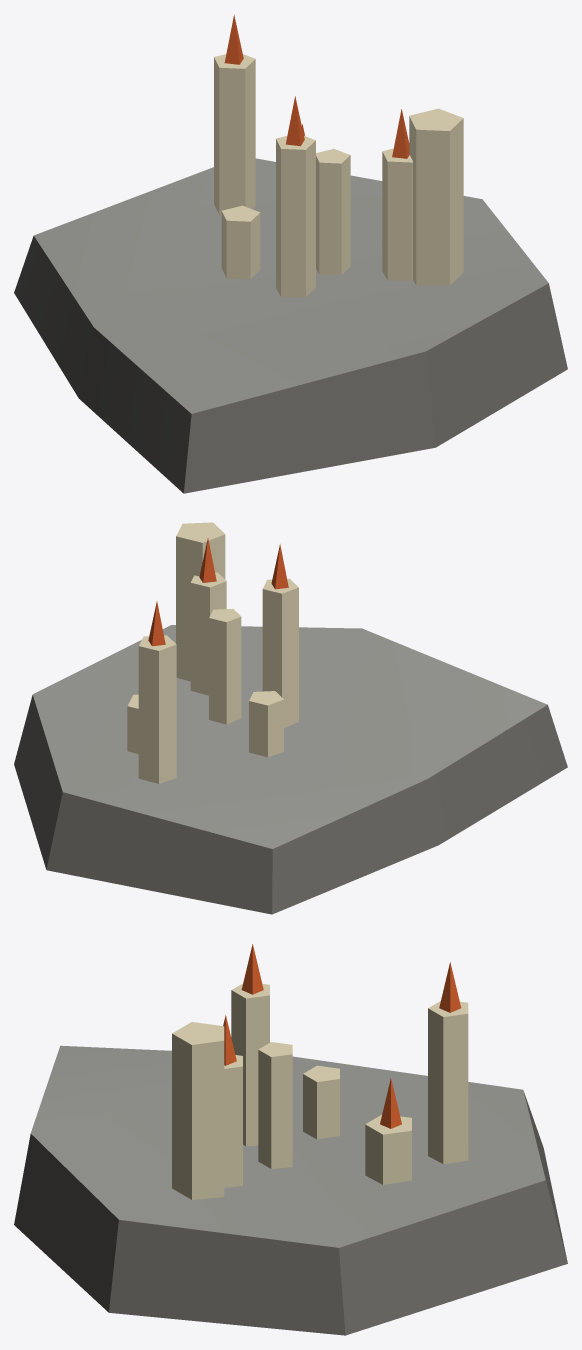
The model's file is Candles.fbx.
3 views of the same model, one above another, from view 1: azimuth 30°, elevation 25°; view 2: azimuth 150°, elevation 25°; view 3: azimuth 270°, elevation 25° (orthographic). The views are drawn at different scales.
Visible parts, largest first — view 1: Candles; view 2: Candles; view 3: Candles.
Part boxes in pixels (left/top/right/bottom): Candles: left=14, top=14, right=567, bottom=493; Candles: left=14, top=522, right=567, bottom=914; Candles: left=14, top=944, right=567, bottom=1335.
Size of the model in its own units: 0.6231 by 0.3483 by 0.6448.
